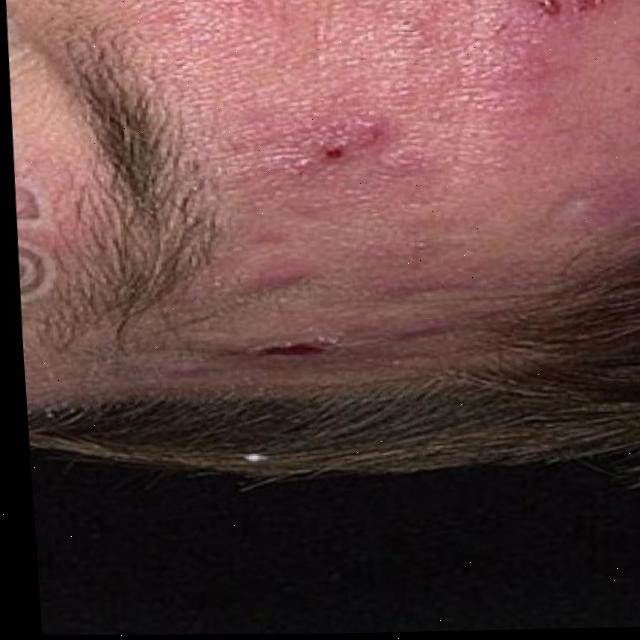Rosacea: (287, 91, 410, 184), (236, 328, 333, 382), (520, 0, 610, 34)
